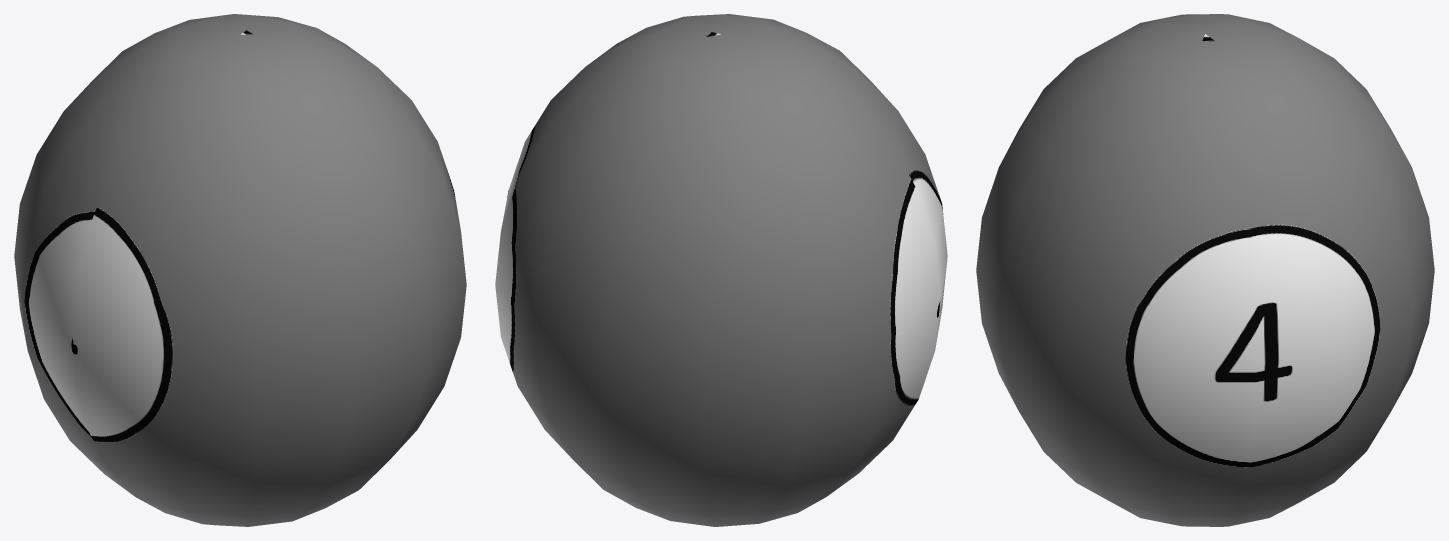
Rendered from Stone Number 4 Sphere .fbx.
3 renders of one model, left to right at view 1: azimuth 30°, elevation 25°; view 2: azimuth 150°, elevation 25°; view 3: azimuth 270°, elevation 25°, orthographic.
Parts seen in each view (by area): view 1: Sphere; view 2: Sphere; view 3: Sphere.
Part boxes in pixels (bbox=[...]): Sphere: bbox=[14, 14, 466, 526]; Sphere: bbox=[495, 14, 947, 526]; Sphere: bbox=[976, 14, 1434, 526].
Bounding box in the file's own units: 165 × 192 × 169.
1 material, 1 textured.
